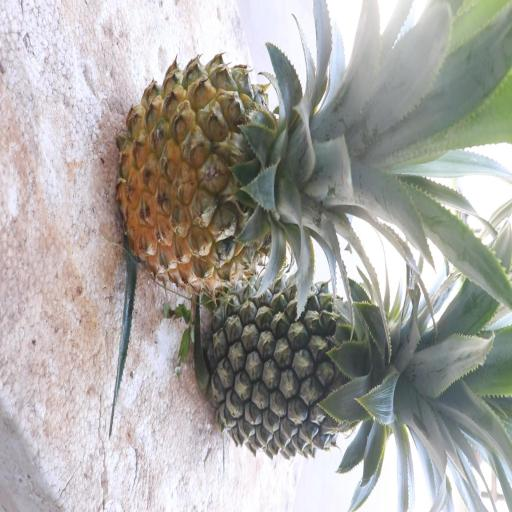Pineapple - v8 v1: (116, 50, 399, 293)
